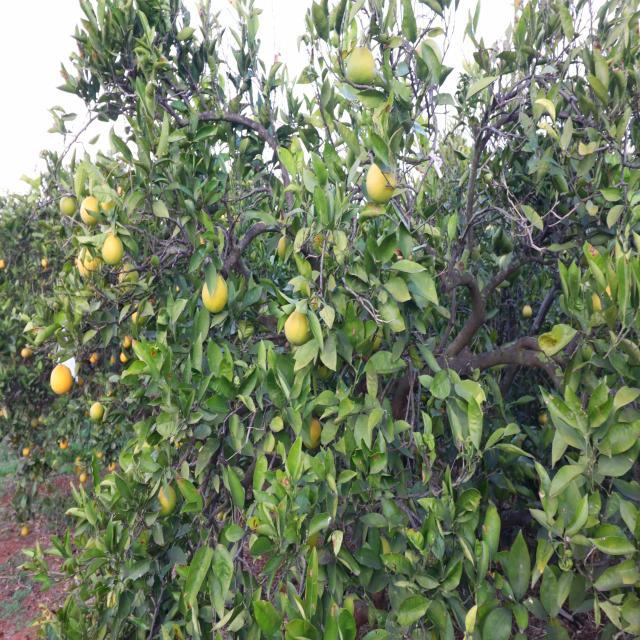Jeruk Belum Matang: (366, 162, 396, 204), (347, 46, 375, 89), (200, 274, 230, 314), (285, 310, 310, 346), (590, 282, 614, 314), (102, 236, 124, 264), (118, 264, 138, 294), (158, 484, 176, 516), (59, 195, 78, 218), (89, 402, 105, 424), (278, 236, 288, 260), (522, 306, 532, 317)
Jeruk Sudah Matang: (49, 364, 72, 396), (78, 247, 102, 277), (302, 418, 322, 450), (80, 196, 101, 226), (132, 304, 146, 324), (122, 335, 130, 348), (120, 352, 130, 362), (90, 353, 98, 363), (79, 473, 87, 483), (21, 526, 29, 536), (22, 448, 30, 457), (60, 440, 67, 450), (21, 350, 28, 358)
